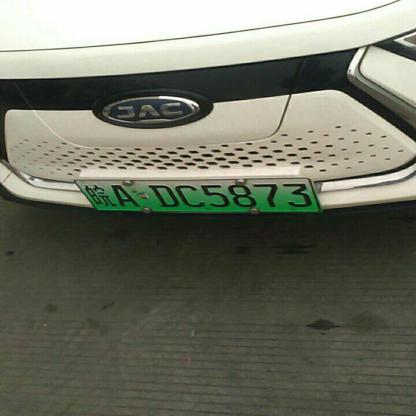lp: (74, 176, 319, 212)
